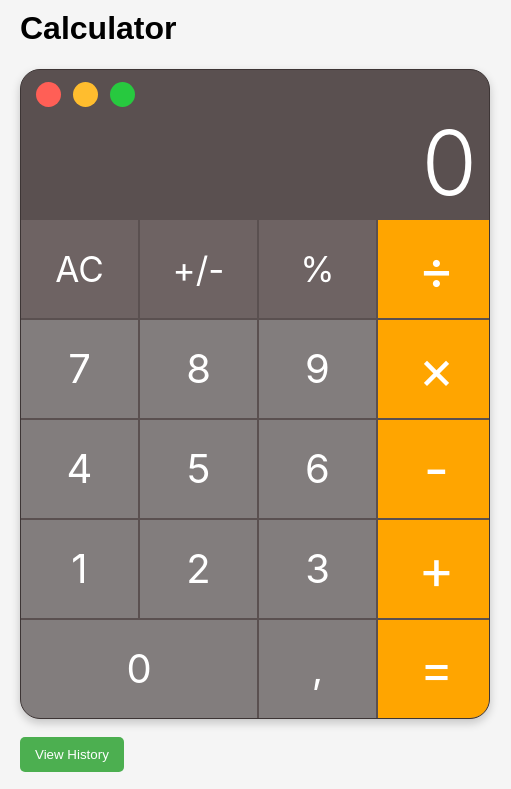
Scenario: Calculator App › Special Operations › Percentage › should convert single digit to percentage
Click the button "5" at coordinates (198, 469), box [140,420,257,518]
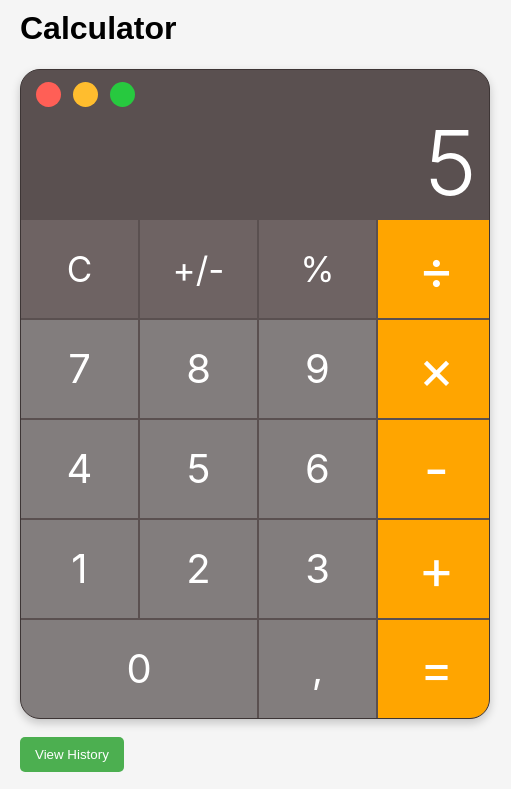
Click the button "%" at coordinates (318, 269), box [259,220,376,318]
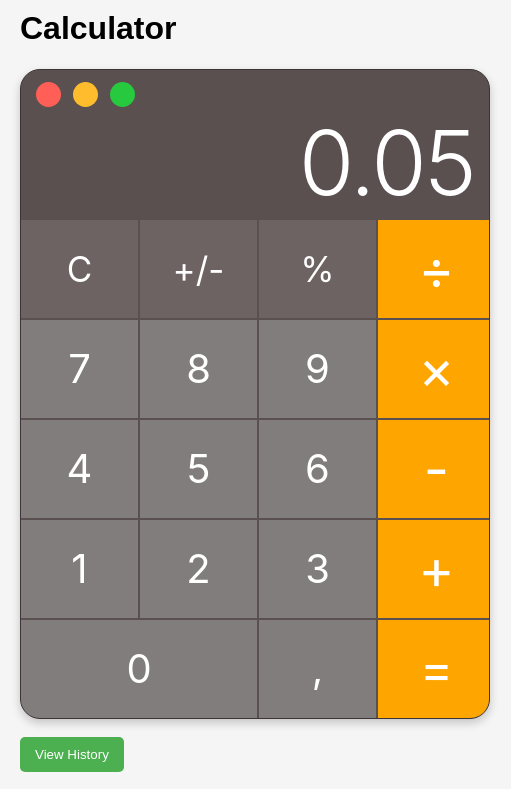
Now the field holds "0.05", box [21,109,490,203]
